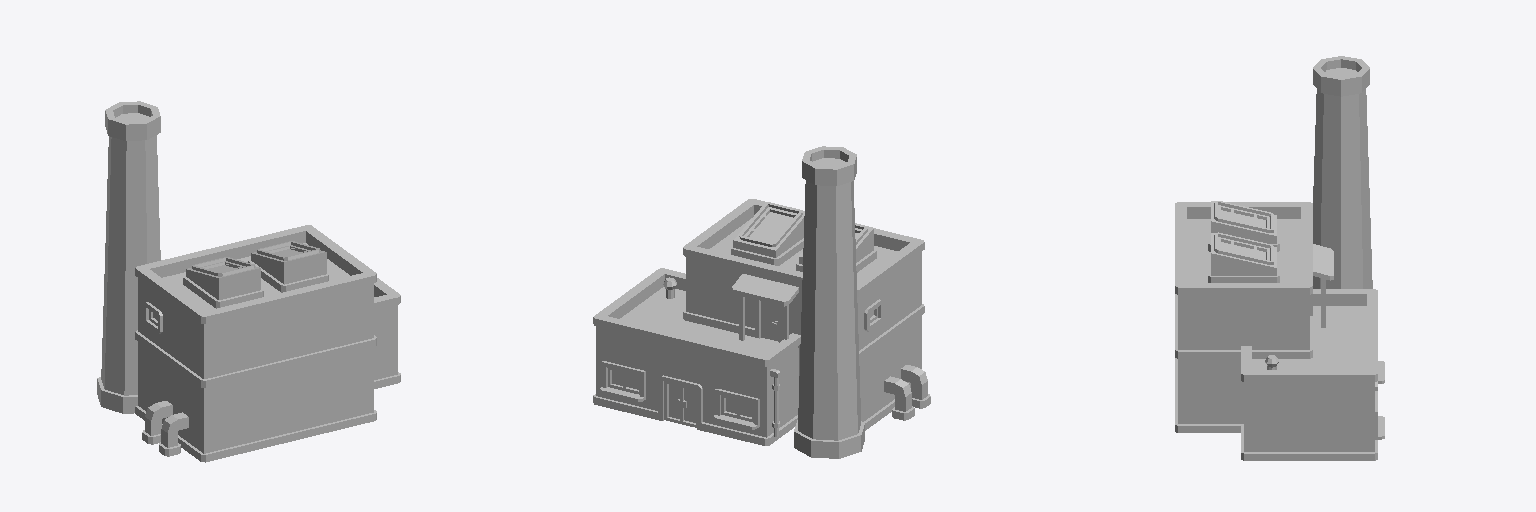
Rendered from industrial_building-f.obj.
3 views of the same model, side by side, from view 1: azimuth 30°, elevation 25°; view 2: azimuth 150°, elevation 25°; view 3: azimuth 270°, elevation 25° (orthographic).
Visible parts, largest first — view 1: building-f; view 2: building-f; view 3: building-f.
Boxes of the visible parts, x1,y1,x2,y2 form: building-f: [97, 101, 400, 462]; building-f: [593, 146, 930, 458]; building-f: [1175, 56, 1384, 460].
Size of the model in its own units: 1.79 by 1.93 by 1.28.